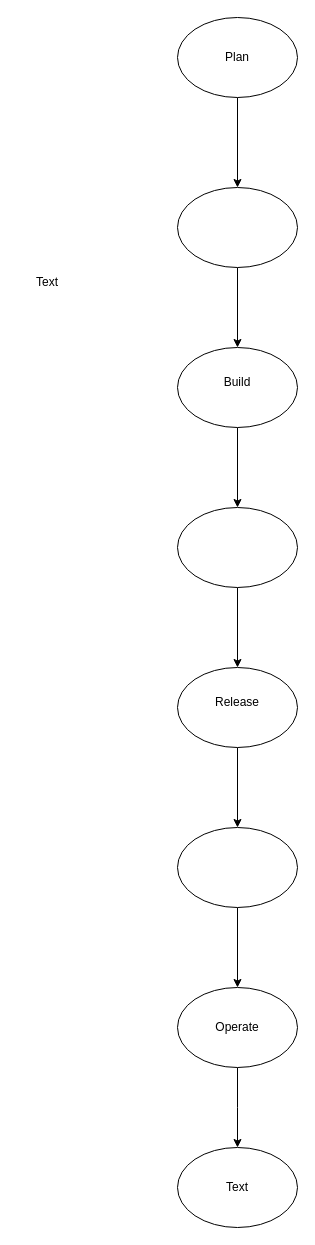
The diagram is 315 pixels wide and 1245 high, and some of its shapes have lost their labels. The centre of each missing label's shape, as x and y in pixels:
Deployment: the point at 237,867
Develop: the point at 237,227
Testing: the point at 237,547
